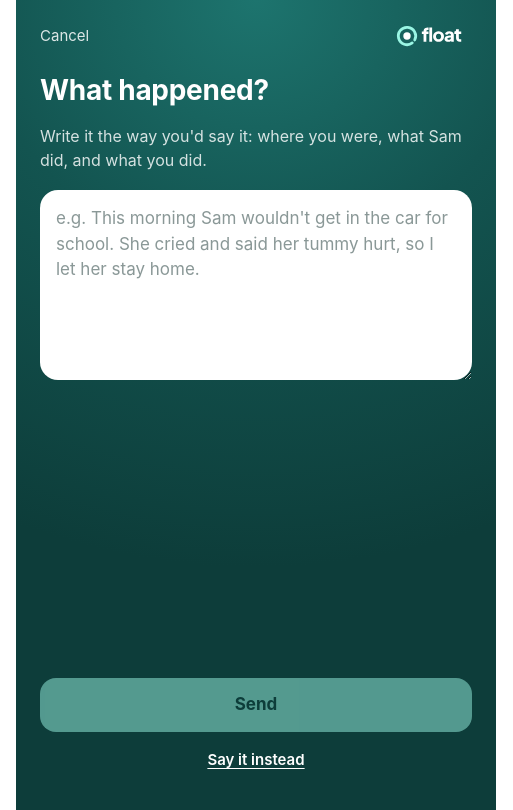
it: just say it › when sending fails it says why and keeps what they typed
The image size is (513, 810).
Step 1. Replace the text in the text box named "What happened?" with "This morning she cried in the car." → (256, 285), box [40,190,472,380]
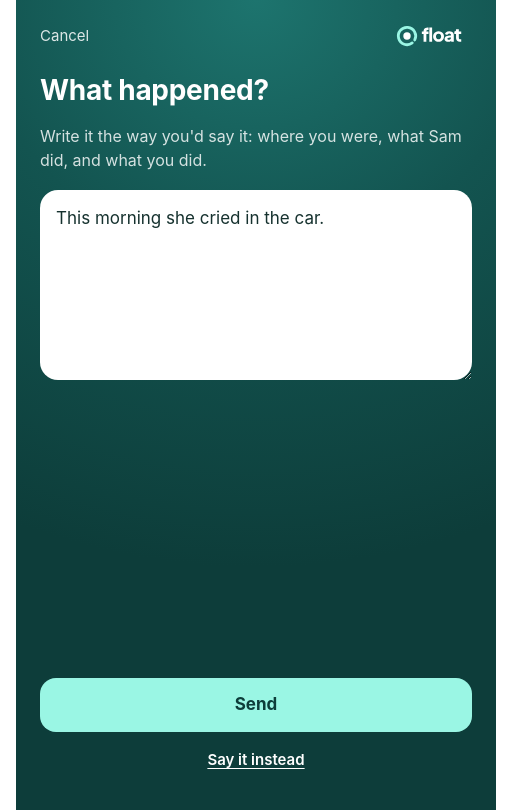
Step 2. Click the button "Send" → (256, 705), box [40,678,472,732]
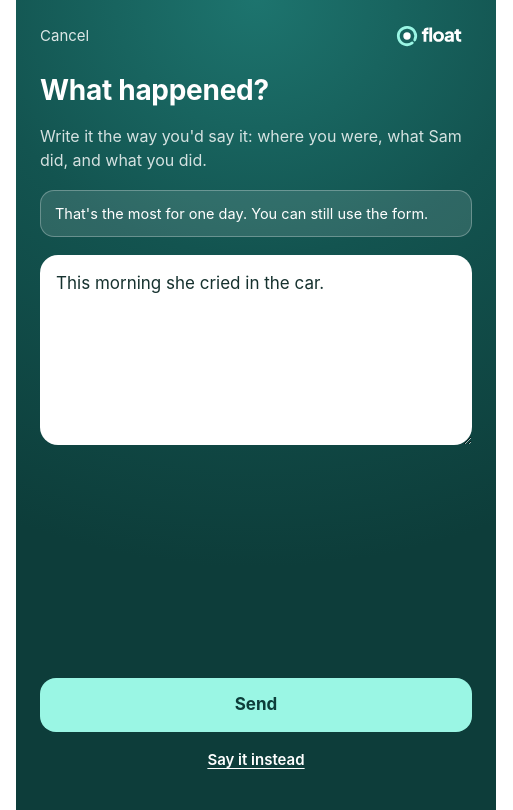
Now the message shows "That's the most for one day.", box [55,205,428,222]
